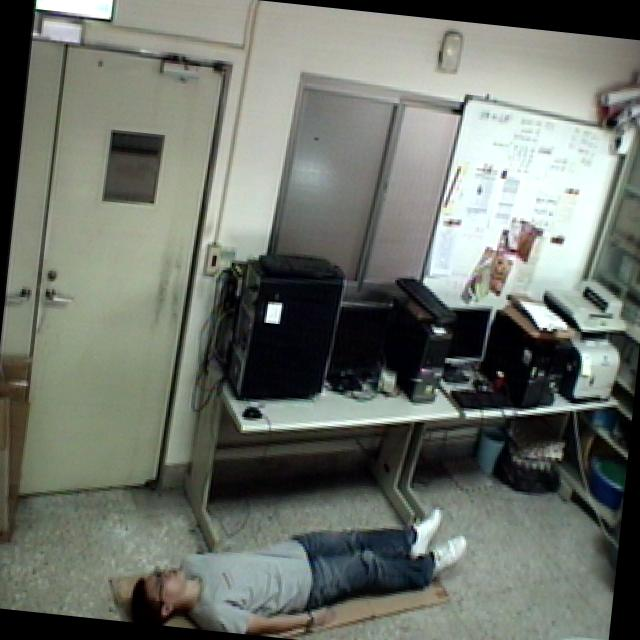lie: (124, 450, 481, 640)
